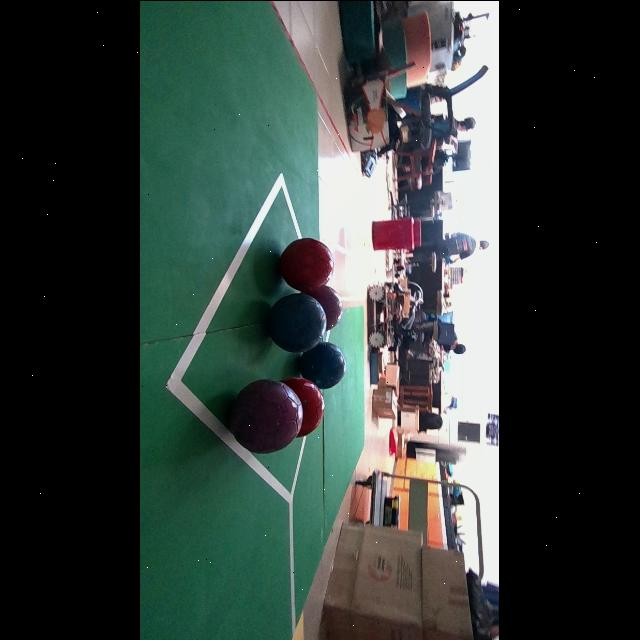B: (268, 293, 328, 351), (299, 341, 347, 387)
P: (230, 378, 302, 452), (309, 285, 343, 328)
R: (280, 238, 333, 293), (283, 376, 324, 436)
